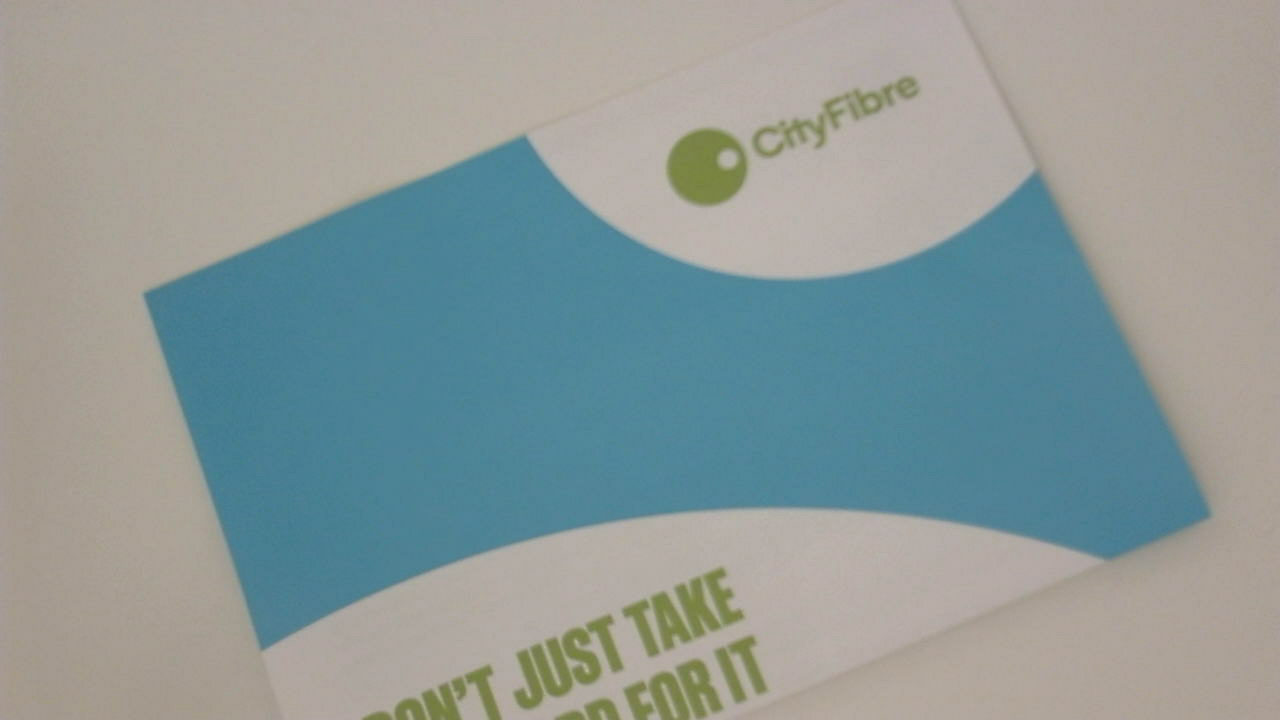Mixed Paper: (140, 12, 1225, 720)
